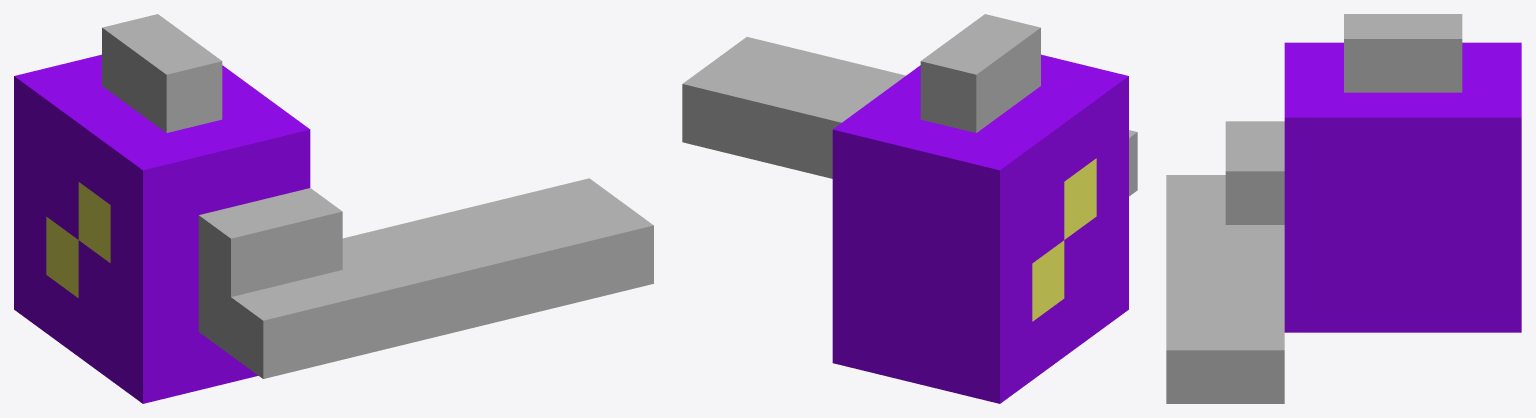
The model's file is perso2-0.obj.
3 views of the same model, side by side, from view 1: azimuth 30°, elevation 25°; view 2: azimuth 150°, elevation 25°; view 3: azimuth 270°, elevation 25° (orthographic). The views are drawn at different scales.
Size of the model in its own units: 0.8 by 0.5 by 0.6.
1 material, 1 textured.
